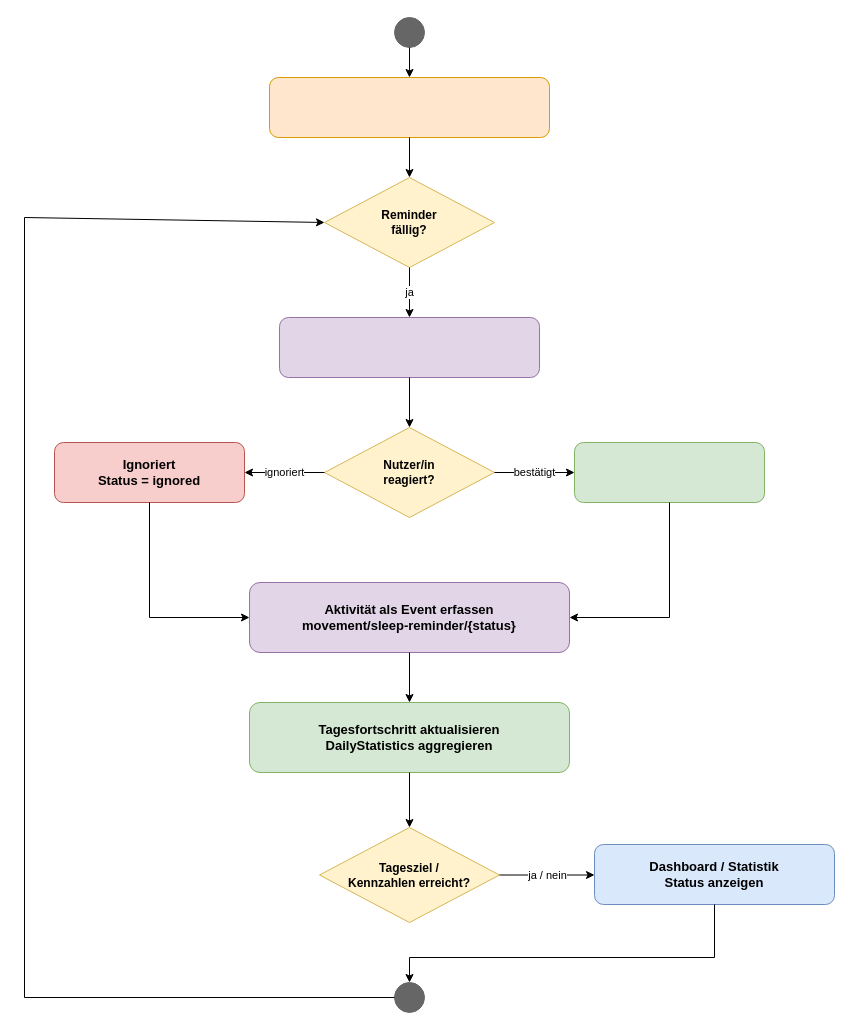
Some shapes in this 852 by 1030 pixel diagram are drawn without their labels. Each missing label, with the box of its shape:
Bestätigt Status = confirmed: (574, 442, 764, 502)
Erinnerung an Nutzer/in anzeigen: (278, 316, 540, 378)
Reminder konfigurieren Intervall / Schlafenszeit: (268, 76, 550, 138)
